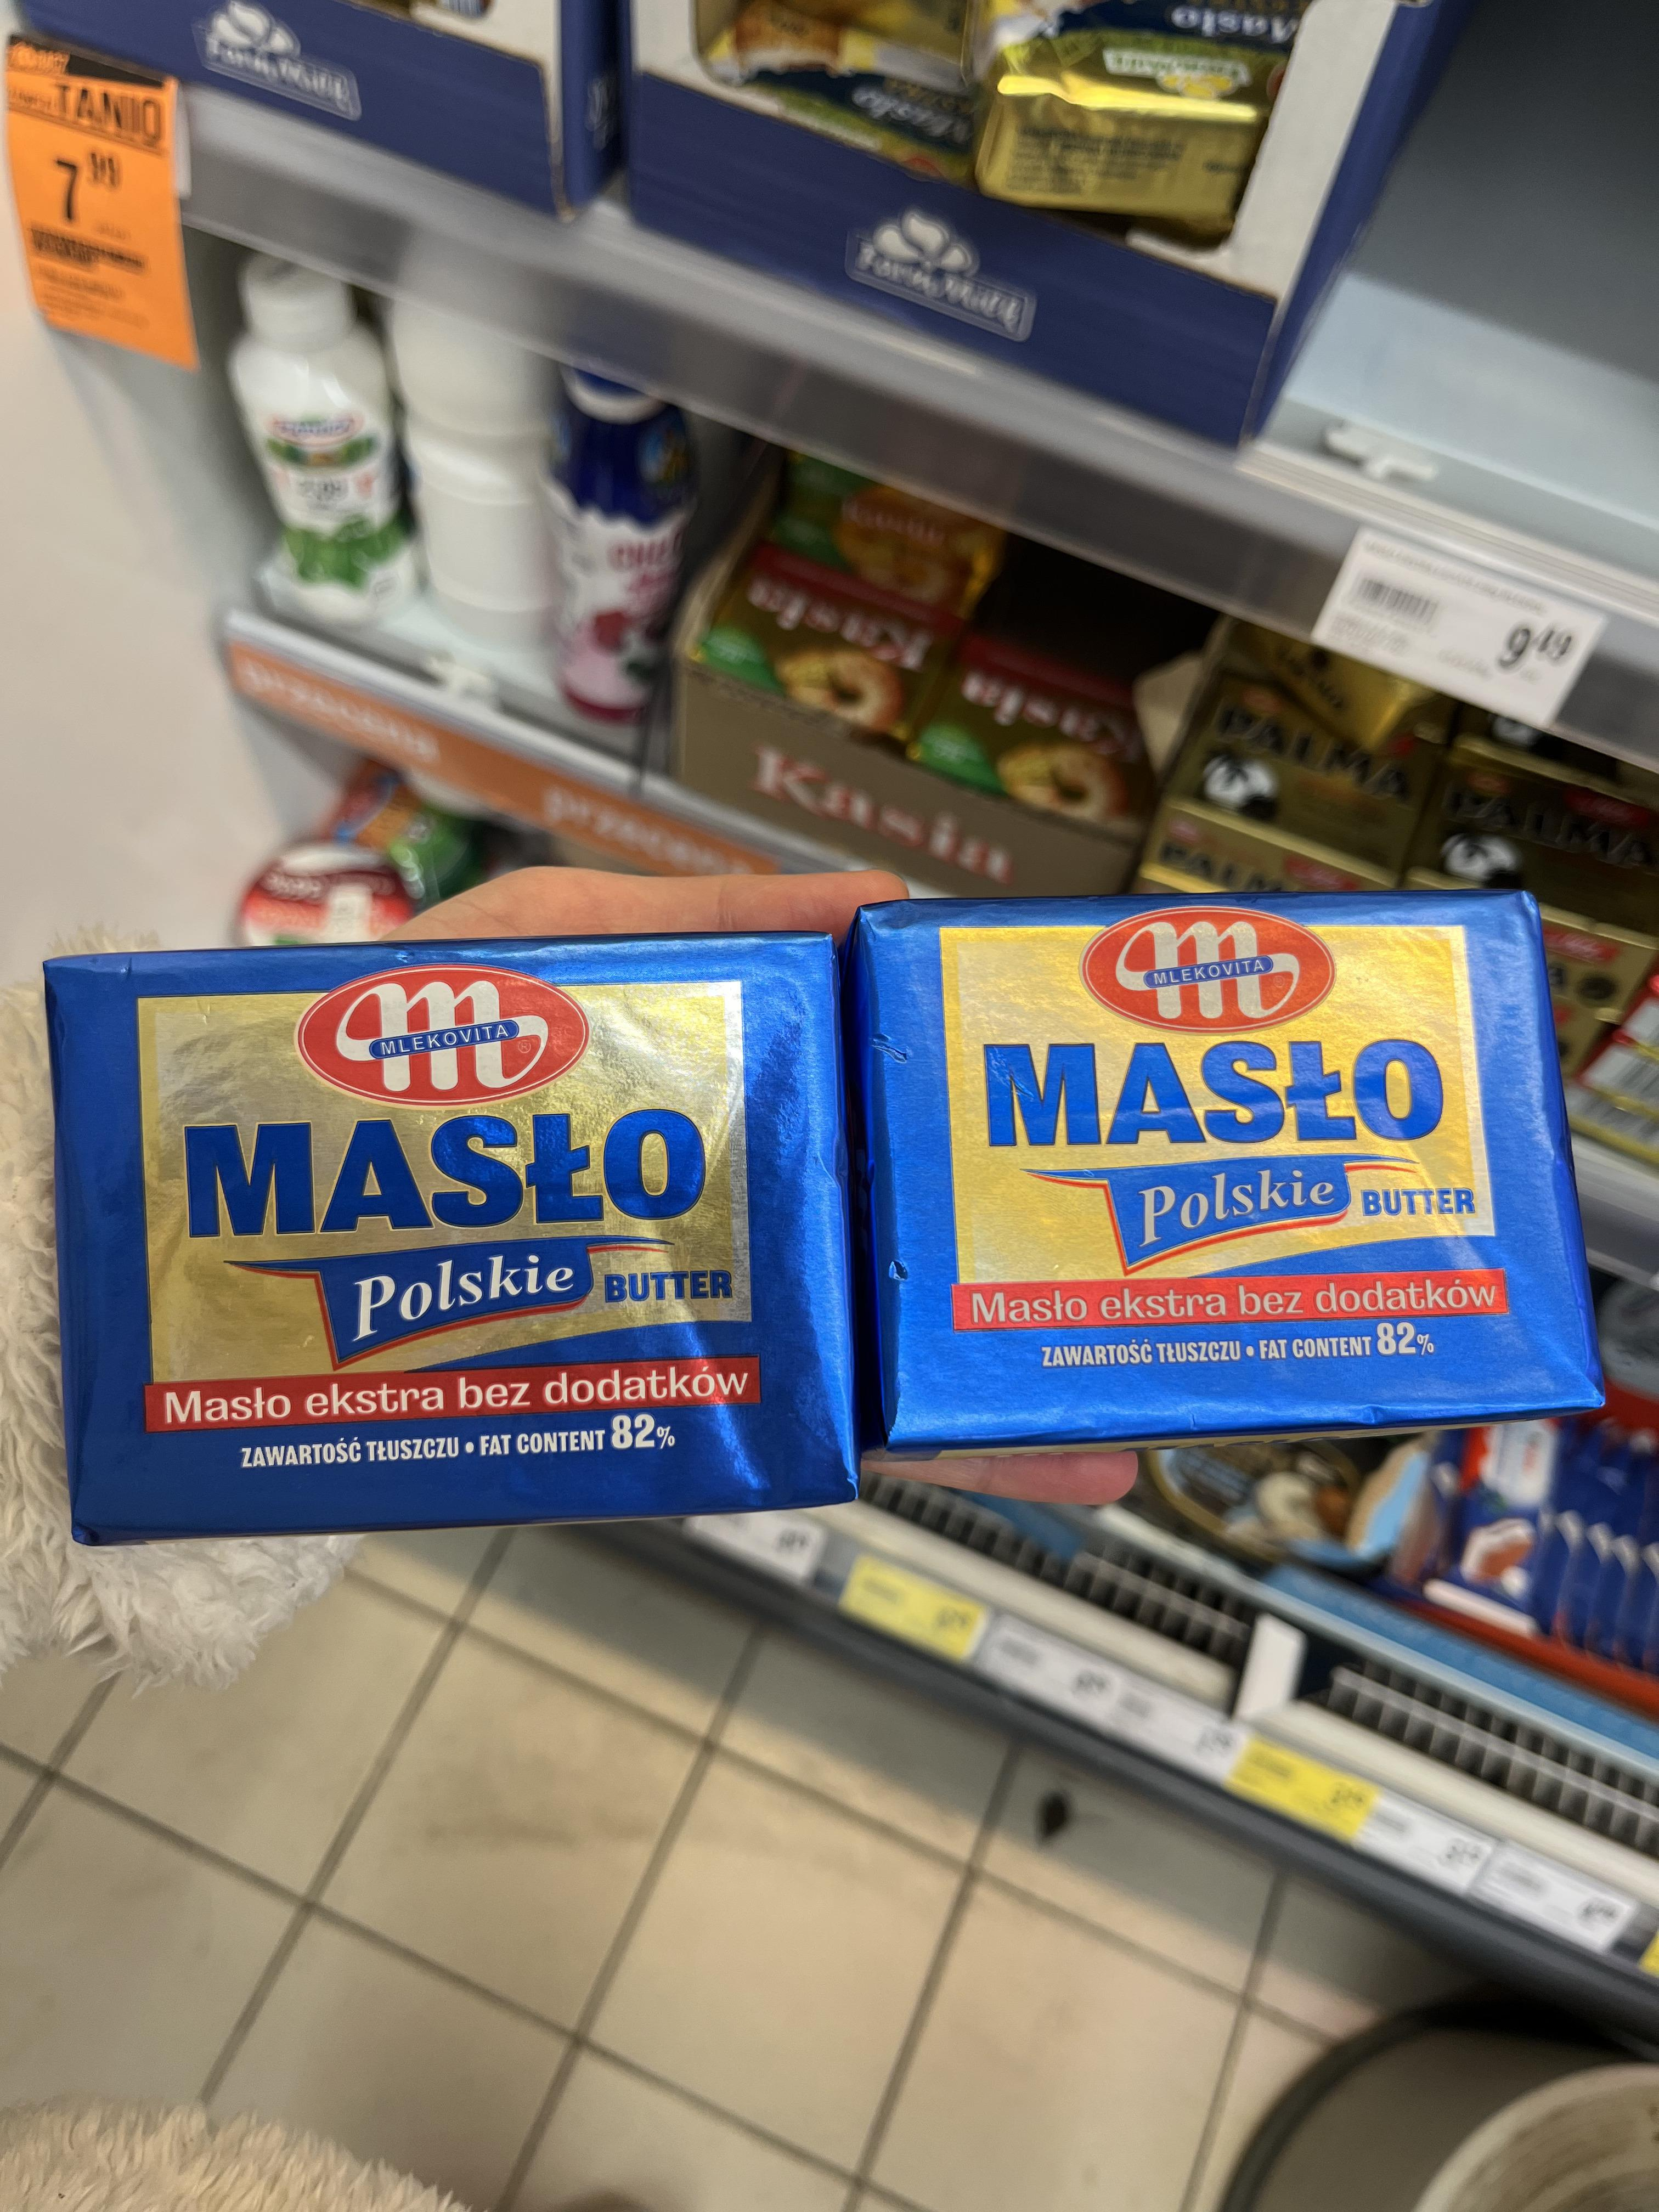Butter: (49, 944, 857, 1515), (852, 890, 1619, 1416)
